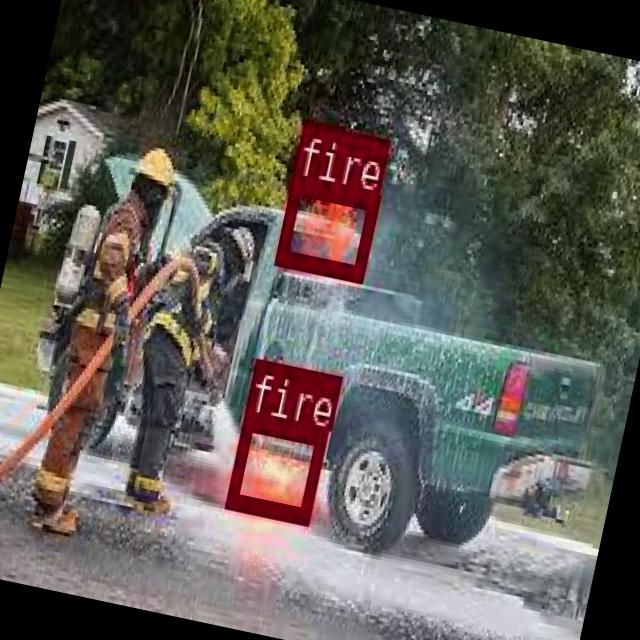fire: (224, 412, 326, 521), (274, 175, 378, 280)
